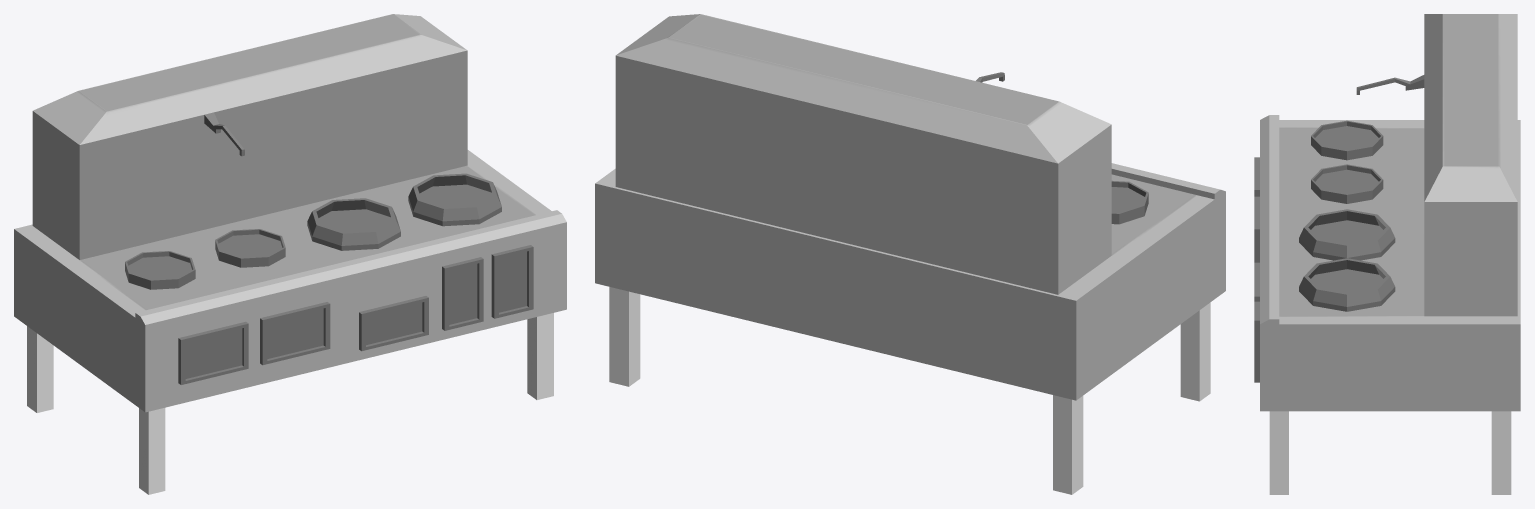
The model's file is 4stove_comp.fbx.
The picture shows the model from 3 angles, left to right: view 1: azimuth 30°, elevation 25°; view 2: azimuth 150°, elevation 25°; view 3: azimuth 270°, elevation 25°; orthographic projection. The views are drawn at different scales.
Parts seen in each view (by area): view 1: Kitchen_4wok_comp:polySurface1; view 2: Kitchen_4wok_comp:polySurface1; view 3: Kitchen_4wok_comp:polySurface1.
Boxes of the visible parts, bbox=[...] form: Kitchen_4wok_comp:polySurface1: bbox=[14, 14, 566, 494]; Kitchen_4wok_comp:polySurface1: bbox=[595, 14, 1225, 494]; Kitchen_4wok_comp:polySurface1: bbox=[1254, 14, 1520, 494].
Size of the model in its own units: 49.98 by 34.95 by 27.5.
